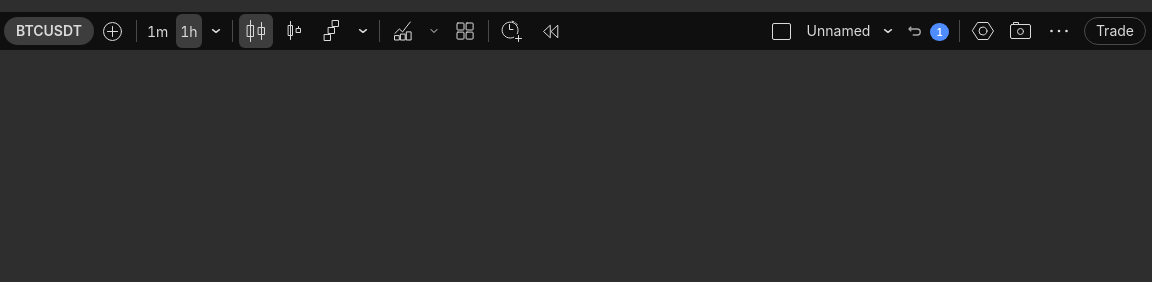
Test: the secondary row is opened by name, and closes from itself
This screenshot has width=1152, height=282.
Click the button named "More controls": (1059, 31) left=1040, top=12, right=1078, bottom=50
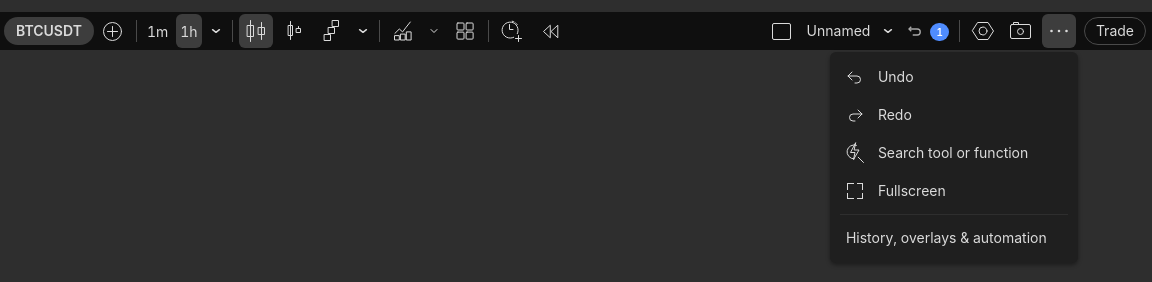
Click the button "History, overlays & automation": (954, 238) left=836, top=219, right=1072, bottom=257
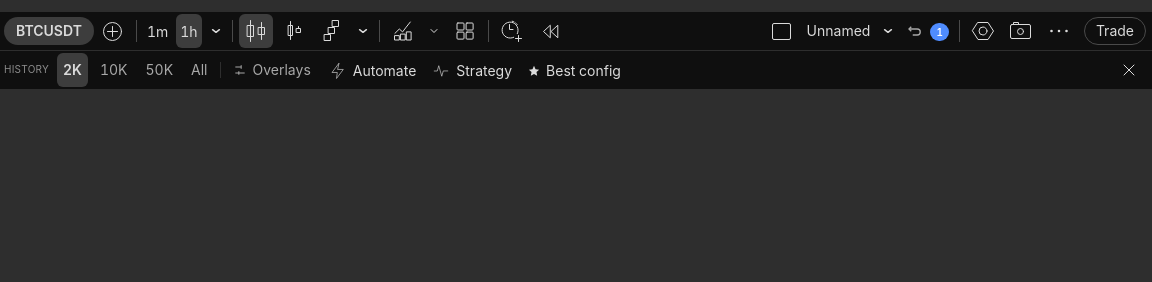
Result: the element with id "chart-toolbar-overflow" is gone
Result: the element with id "chart-toolbar-more" reads "History 2K 10K 50K All Overlays Automate Strategy Best config" at left=0, top=50, right=1151, bottom=89
Click the button named "Hide history, overlays and automation": (1129, 70) left=1110, top=51, right=1148, bottom=89
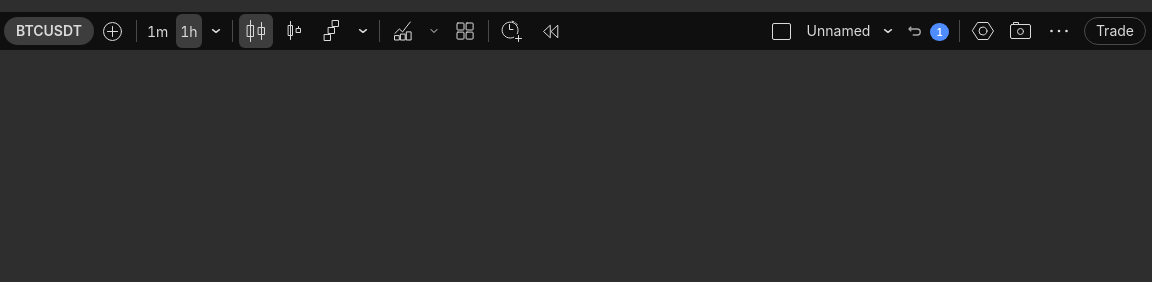
Result: the element with id "chart-toolbar-more" is gone
